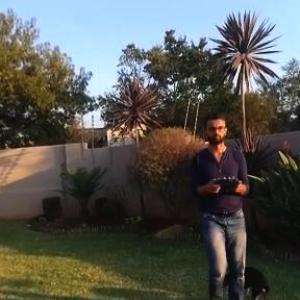follow: (189, 108, 255, 299)
